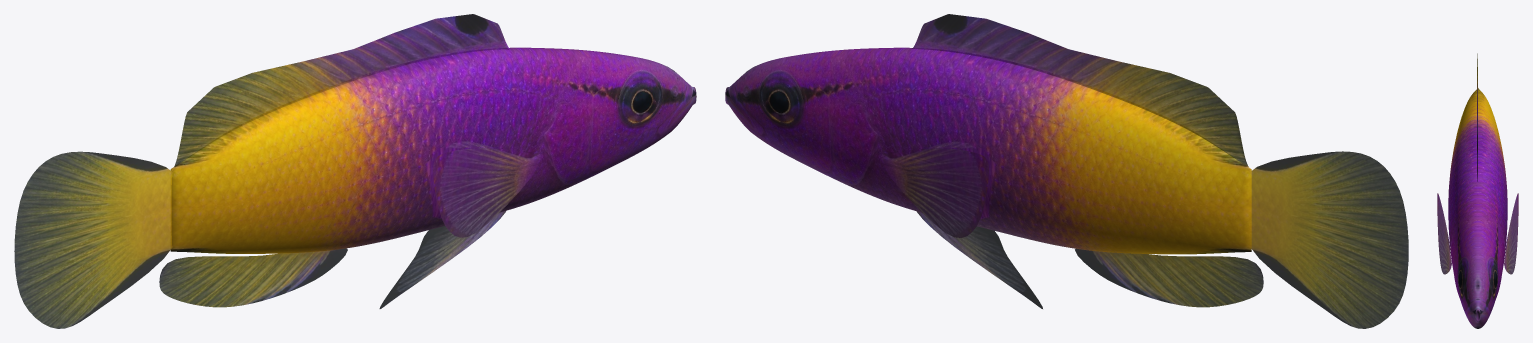
Rendered from gramma-4tsMCcIb.glb.
3 renders of one model, left to right at view 1: azimuth 30°, elevation 25°; view 2: azimuth 150°, elevation 25°; view 3: azimuth 270°, elevation 25°, orthographic. The views are drawn at different scales.
Visible parts, largest first — view 1: gramma__body, gramma__fin_0, gramma__fin_1, gramma__fin_2, gramma__pectoral_1, gramma__gill_1, gramma__fin_3, gramma__eye_1; view 2: gramma__body, gramma__fin_0, gramma__fin_1, gramma__fin_2, gramma__pectoral_-1, gramma__gill_-1, gramma__fin_3, gramma__eye_-1; view 3: gramma__body, gramma__pectoral_1, gramma__pectoral_-1, gramma__gill_1, gramma__gill_-1, gramma__eye_1, gramma__eye_-1, gramma__fin_1.
Part boxes in pixels (x1,y1,x2,y2): gramma__body: (170, 47, 696, 253); gramma__fin_0: (14, 151, 172, 328); gramma__fin_1: (172, 14, 509, 170); gramma__fin_2: (159, 248, 347, 307); gramma__pectoral_1: (433, 148, 538, 237); gramma__gill_1: (555, 88, 609, 188); gramma__fin_3: (379, 211, 505, 308); gramma__eye_1: (627, 83, 656, 120); gramma__body: (725, 47, 1251, 254); gramma__fin_0: (1251, 151, 1408, 328); gramma__fin_1: (912, 14, 1248, 167); gramma__fin_2: (1075, 248, 1263, 307); gramma__pectoral_-1: (883, 148, 988, 237); gramma__gill_-1: (812, 88, 866, 189); gramma__fin_3: (916, 211, 1042, 308); gramma__eye_-1: (765, 84, 794, 120); gramma__body: (1448, 88, 1507, 328); gramma__pectoral_1: (1437, 193, 1451, 274); gramma__pectoral_-1: (1504, 193, 1518, 274); gramma__gill_1: (1453, 229, 1459, 297); gramma__gill_-1: (1496, 229, 1502, 297); gramma__eye_1: (1458, 266, 1464, 293); gramma__eye_-1: (1491, 266, 1497, 293); gramma__fin_1: (1477, 53, 1477, 181).
Size of the model in its own units: 1.31 by 0.5071 by 0.1836.
Materials: 5 (5 with a texture image).
